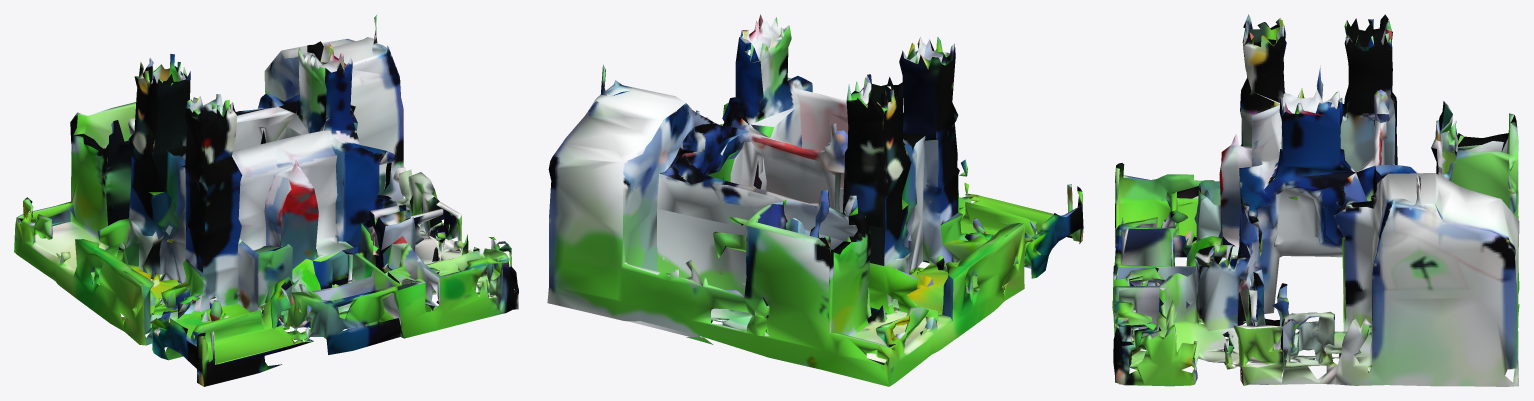
The model's file is crucible_hall.glb.
3 renders of one model, left to right at view 1: azimuth 30°, elevation 25°; view 2: azimuth 150°, elevation 25°; view 3: azimuth 270°, elevation 25°, orthographic. The views are drawn at different scales.
Parts seen in each view (by area): view 1: LP_baked; view 2: LP_baked; view 3: LP_baked.
Part boxes in pixels (left/top/right/bottom): LP_baked: left=14, top=14, right=518, bottom=386; LP_baked: left=547, top=14, right=1083, bottom=386; LP_baked: left=1112, top=14, right=1519, bottom=386.
Size of the model in its own units: 1.96 by 1.26 by 1.96.
1 material, 1 textured.
